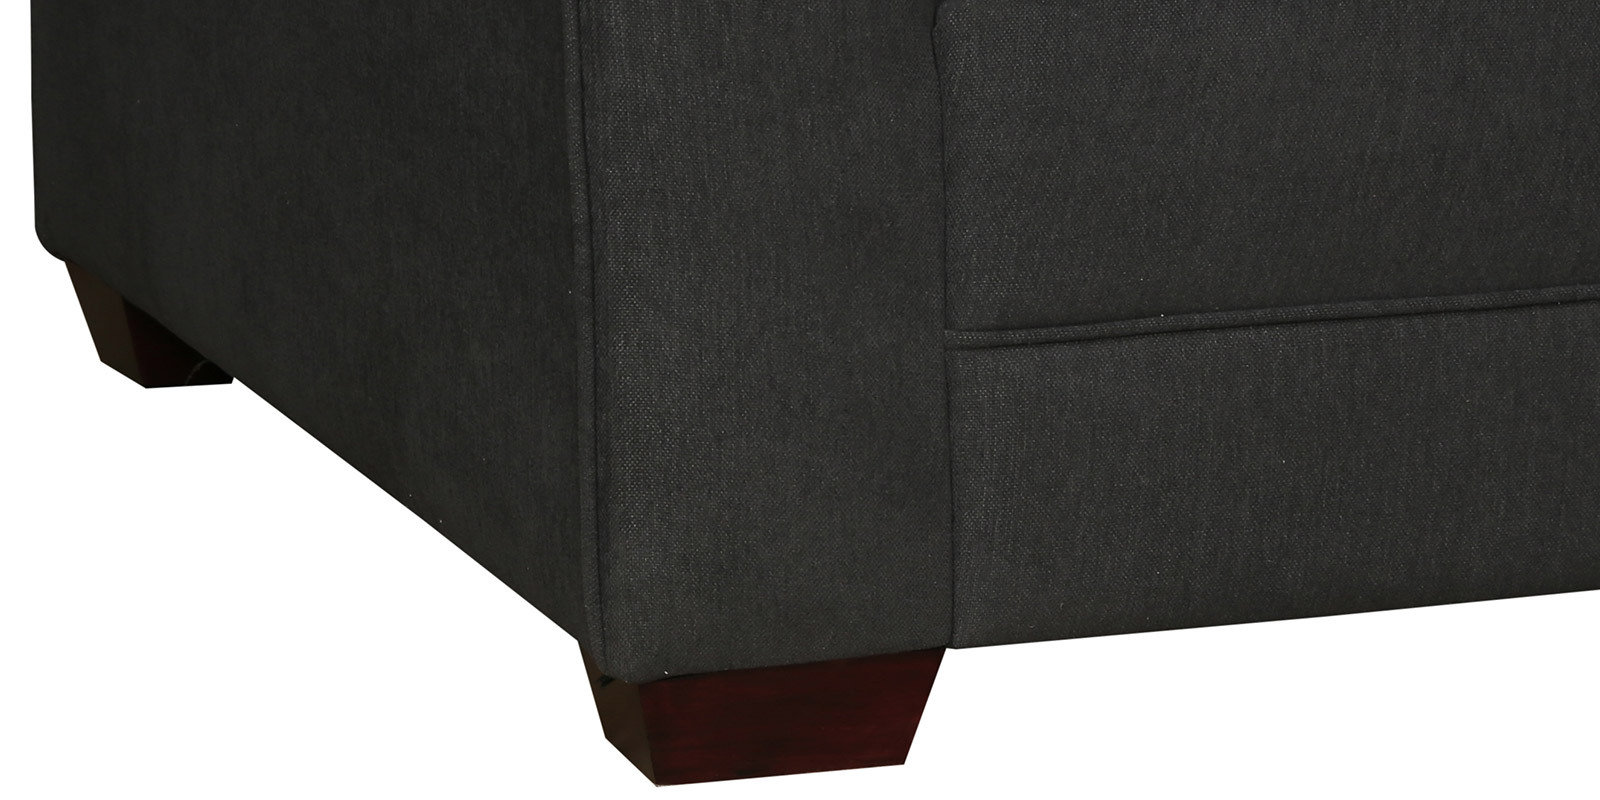Madeira Three Seater Sofa in Charcoal Grey Colour by CasaCraft: (28, 1, 1600, 789)
